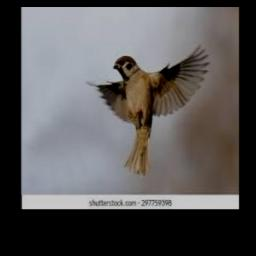Sparrow: (86, 43, 209, 175)
